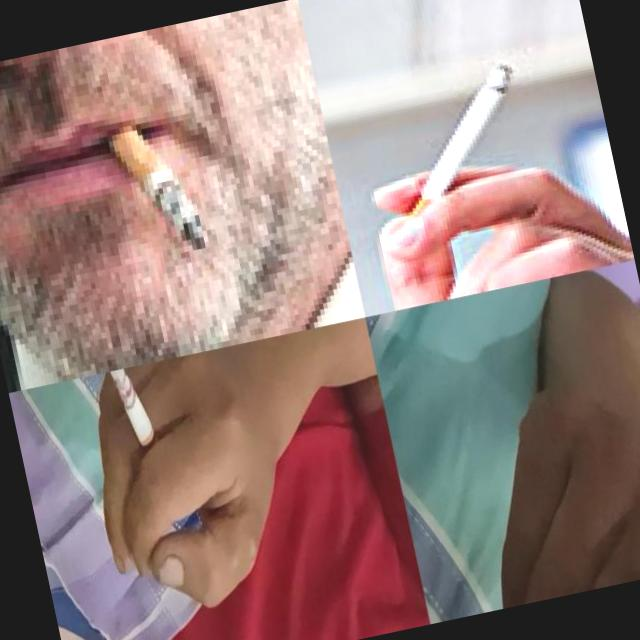cigarette: (368, 60, 544, 238), (96, 97, 210, 266), (596, 392, 640, 579), (109, 362, 170, 478)
